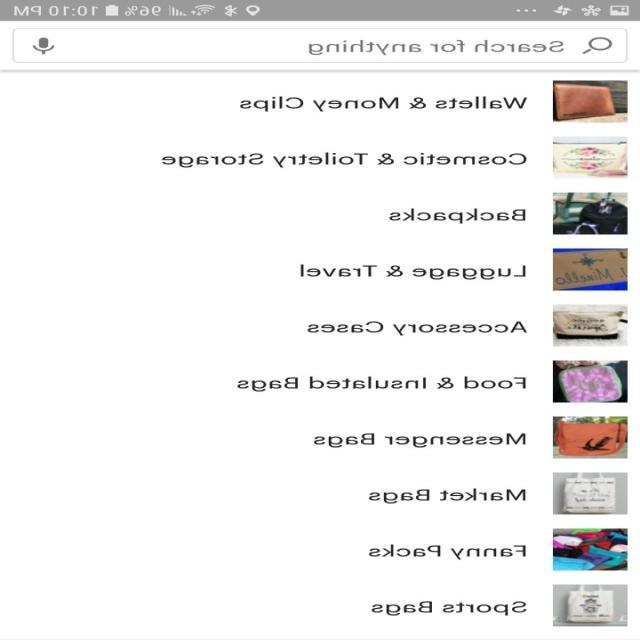EditText: (13, 28, 628, 63)
Icon: (582, 37, 612, 54), (33, 37, 56, 54)
Image: (552, 527, 628, 570), (552, 80, 628, 122), (552, 136, 628, 178), (552, 192, 628, 234), (552, 248, 628, 290), (552, 304, 628, 346), (552, 360, 628, 402), (552, 416, 628, 458), (552, 472, 628, 514), (552, 584, 628, 626)
Text: (162, 152, 527, 168), (237, 375, 527, 392), (240, 96, 528, 112), (308, 40, 564, 54), (307, 320, 528, 336), (300, 264, 526, 279), (314, 433, 528, 447), (369, 543, 527, 560), (368, 487, 526, 504), (372, 600, 528, 616), (389, 208, 526, 223)
